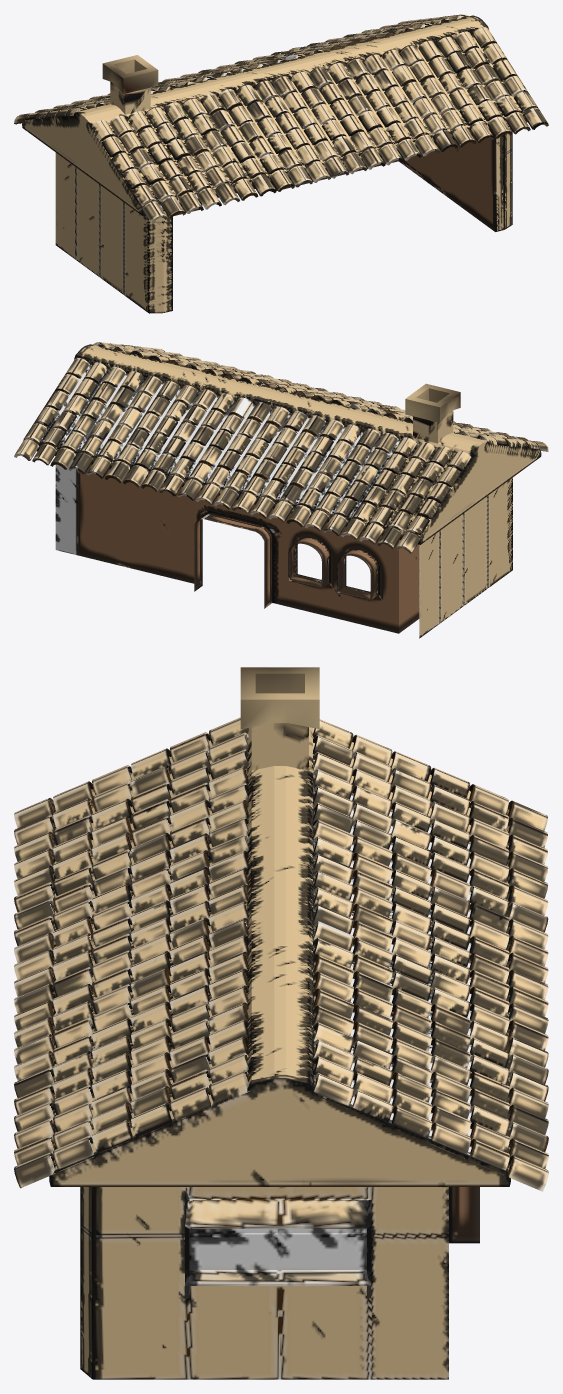
The model's file is EDIF2.fbx.
3 renders of one model, top to bottom at view 1: azimuth 30°, elevation 25°; view 2: azimuth 150°, elevation 25°; view 3: azimuth 270°, elevation 25°, orthographic. The views are drawn at different scales.
Visible parts, largest first — view 1: Cylinder.008, Cube.003, Cube.004, Cylinder.011; view 2: Cylinder.011, Cube.004, Cube.003, Cylinder.008; view 3: Cylinder.008, Cylinder.011, Cube.004, Cube.003.
Part boxes in pixels (<box>): Cylinder.008: <box>91,27,548,222</box>; Cube.003: <box>22,15,538,215</box>; Cube.004: <box>55,127,512,313</box>; Cylinder.011: <box>14,14,468,124</box>; Cylinder.011: <box>14,358,471,553</box>; Cube.004: <box>55,460,512,638</box>; Cube.003: <box>23,344,541,544</box>; Cylinder.008: <box>93,342,548,451</box>; Cylinder.008: <box>14,717,249,1188</box>; Cylinder.011: <box>313,719,548,1191</box>; Cube.004: <box>80,1187,479,1379</box>; Cube.003: <box>49,667,510,1186</box>.
Size of the model in its own units: 2202 by 1069 by 1339.
1 material, 1 textured.
